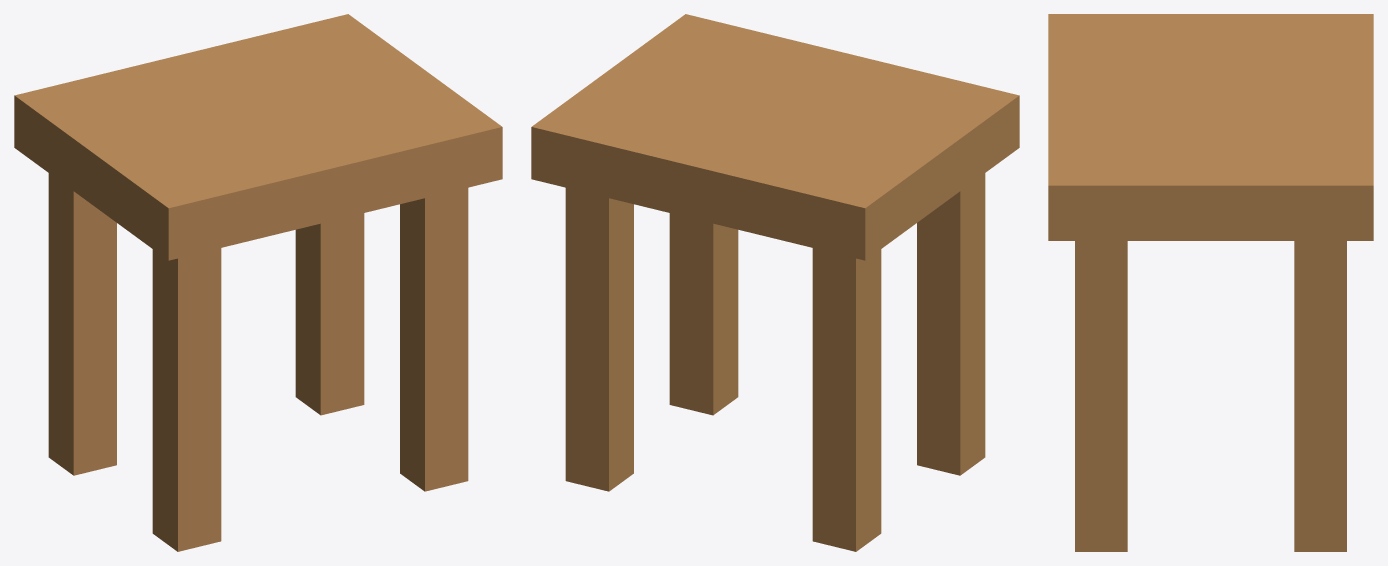
Rendered from 3d-stool.glb.
The picture shows the model from 3 angles, left to right: view 1: azimuth 30°, elevation 25°; view 2: azimuth 150°, elevation 25°; view 3: azimuth 270°, elevation 25°; orthographic projection. The views are drawn at different scales.
Size of the model in its own units: 1 by 1.02 by 0.8.
